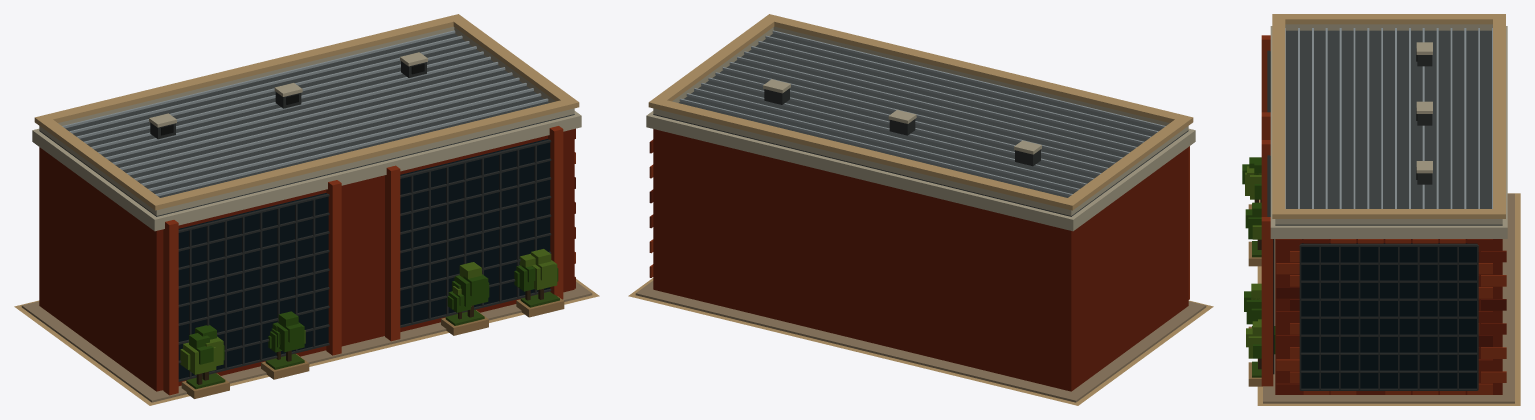
Rendered from SM_Mapa_038.fbx.
3 renders of one model, left to right at view 1: azimuth 30°, elevation 25°; view 2: azimuth 150°, elevation 25°; view 3: azimuth 270°, elevation 25°, orthographic. The views are drawn at different scales.
Visible parts, largest first — view 1: SM_Mapa_038; view 2: SM_Mapa_038; view 3: SM_Mapa_038.
Part boxes in pixels (x1=…): SM_Mapa_038: x1=14, y1=14, x2=599, y2=405; SM_Mapa_038: x1=628, y1=14, x2=1213, y2=405; SM_Mapa_038: x1=1242, y1=14, x2=1520, y2=405.
Bounding box in the file's own units: 24 × 13.27 × 10.17.
